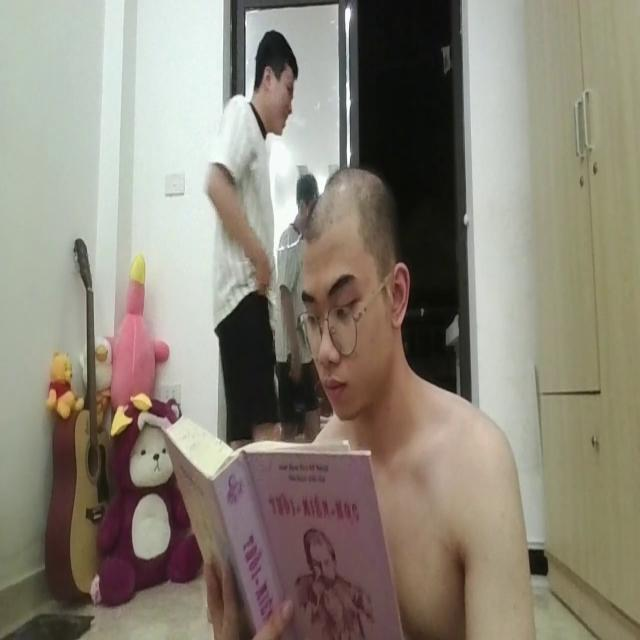book: (164, 415, 400, 640)
extra_person: (201, 31, 296, 449)
student: (296, 152, 537, 640)
